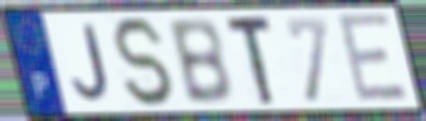7: (283, 14, 334, 105)
B: (164, 15, 236, 107)
E: (333, 11, 412, 107)
J: (70, 22, 113, 104)
S: (109, 14, 180, 111)
T: (224, 12, 277, 108)
